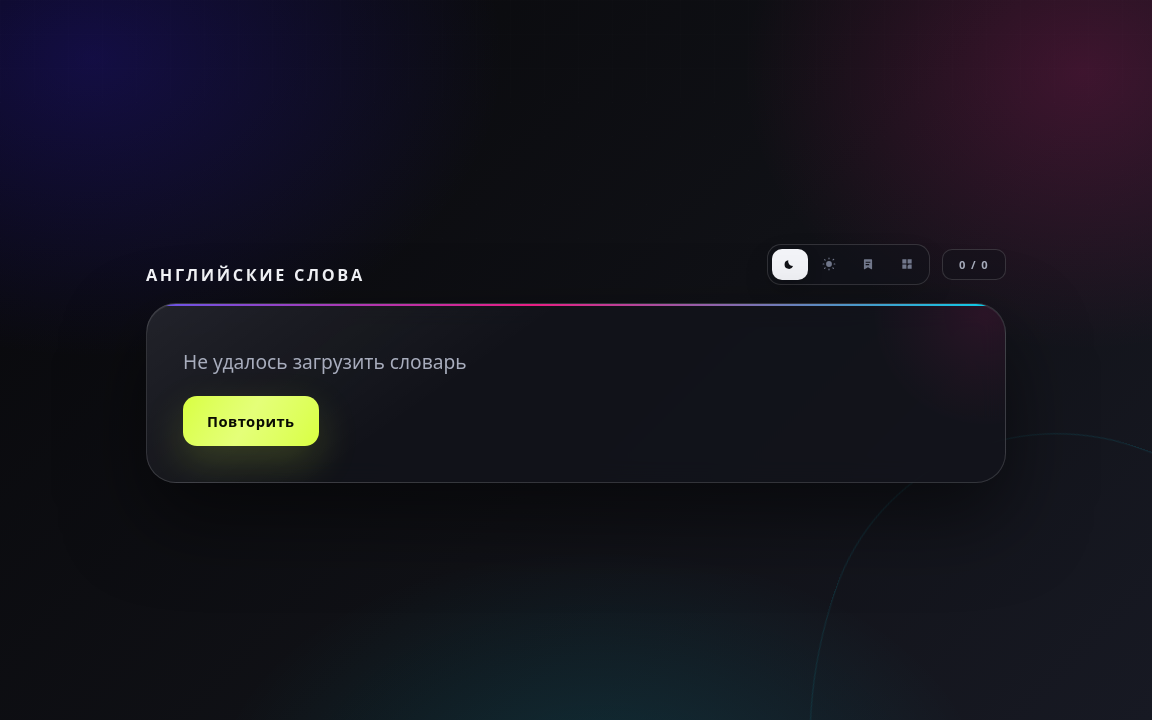
Test: App › retries a failed load
The image size is (1152, 720).
Click the button "Повторить" at (251, 421), box [183,396,318,446]
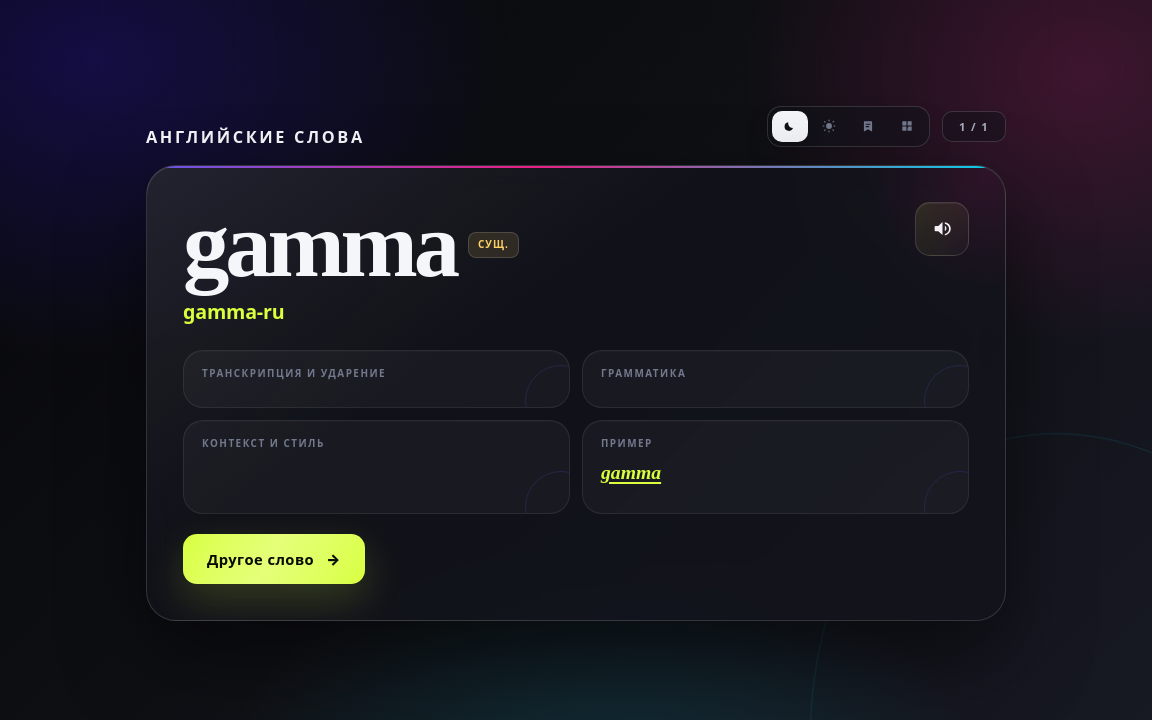
Now the heading "gamma" is shown, box [183,202,456,287]
